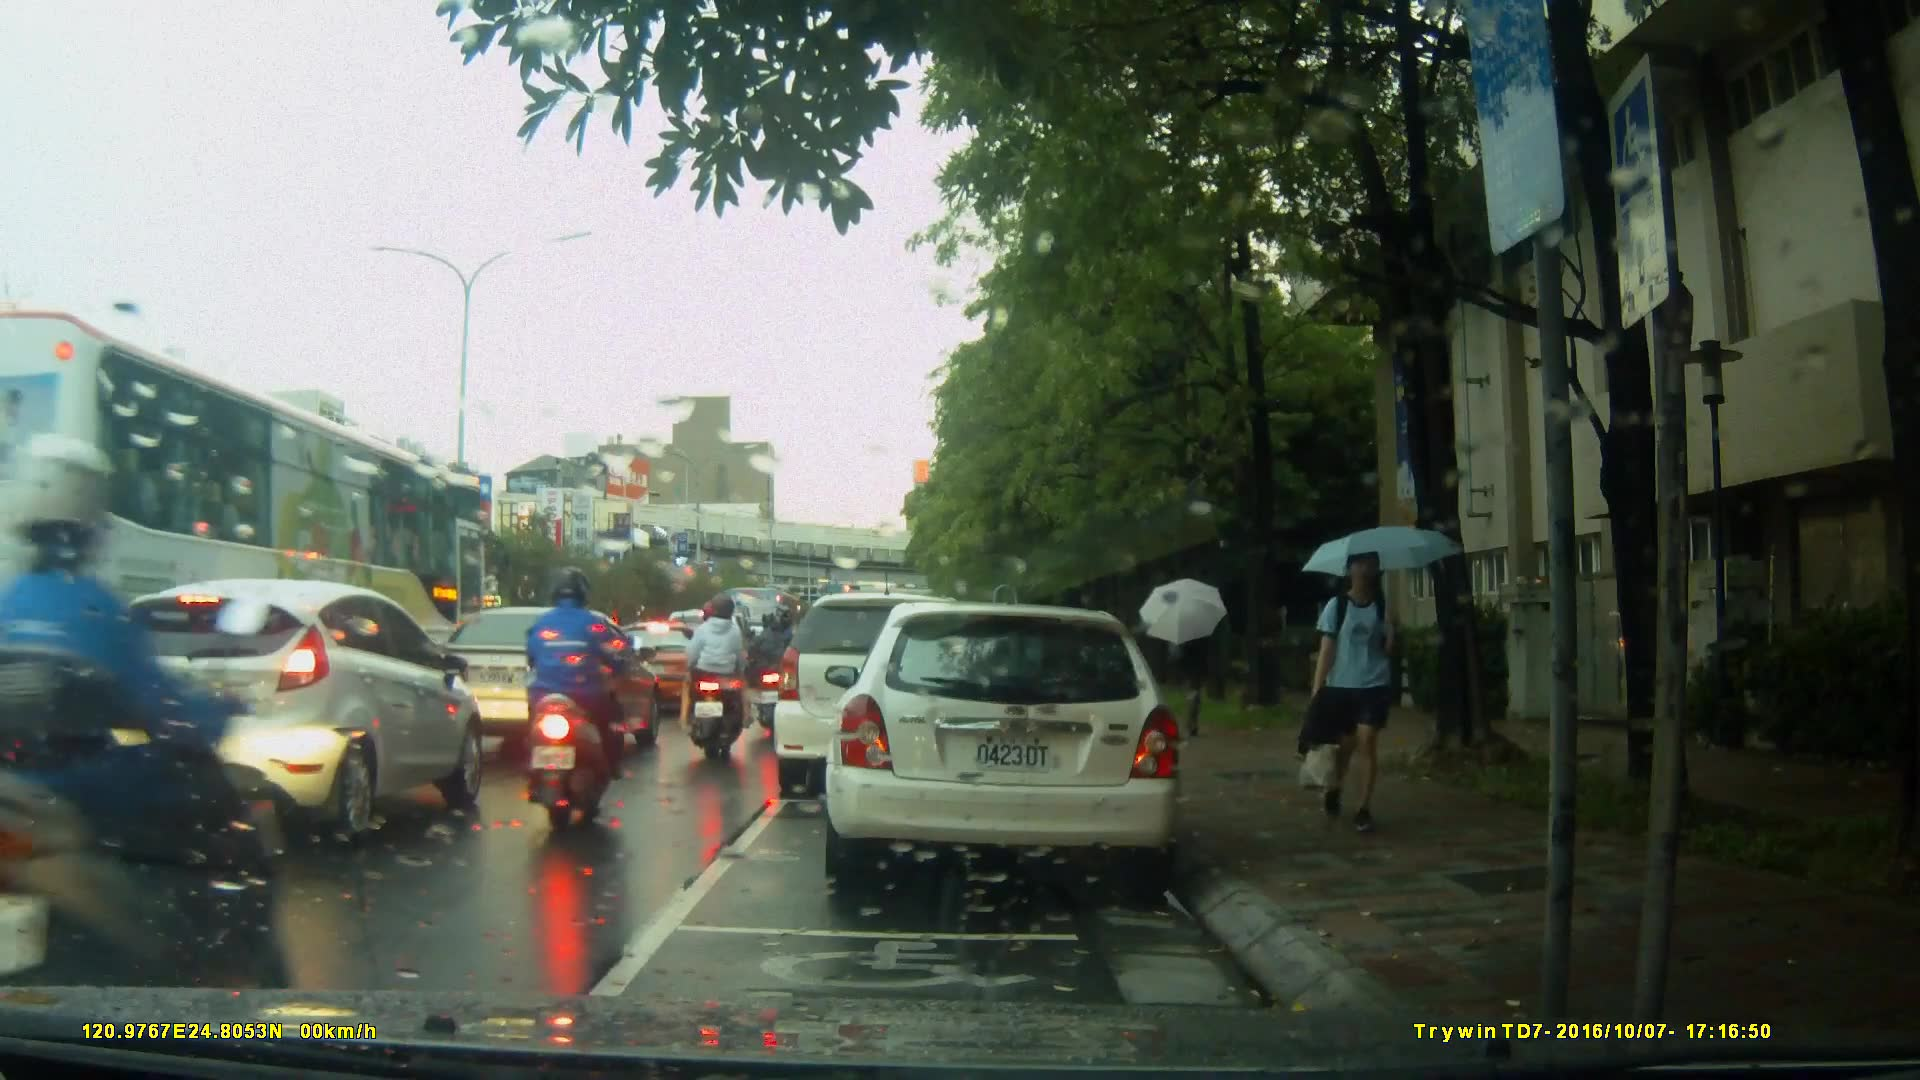pedestrian: (1296, 547, 1424, 830), (1167, 608, 1221, 737)
rider: (1, 441, 309, 1064), (531, 568, 630, 823), (688, 593, 760, 773), (753, 605, 792, 737)
vehicle: (2, 304, 502, 796), (835, 594, 1194, 898), (84, 575, 485, 846), (776, 590, 1026, 784), (405, 604, 655, 757), (607, 619, 729, 715)
